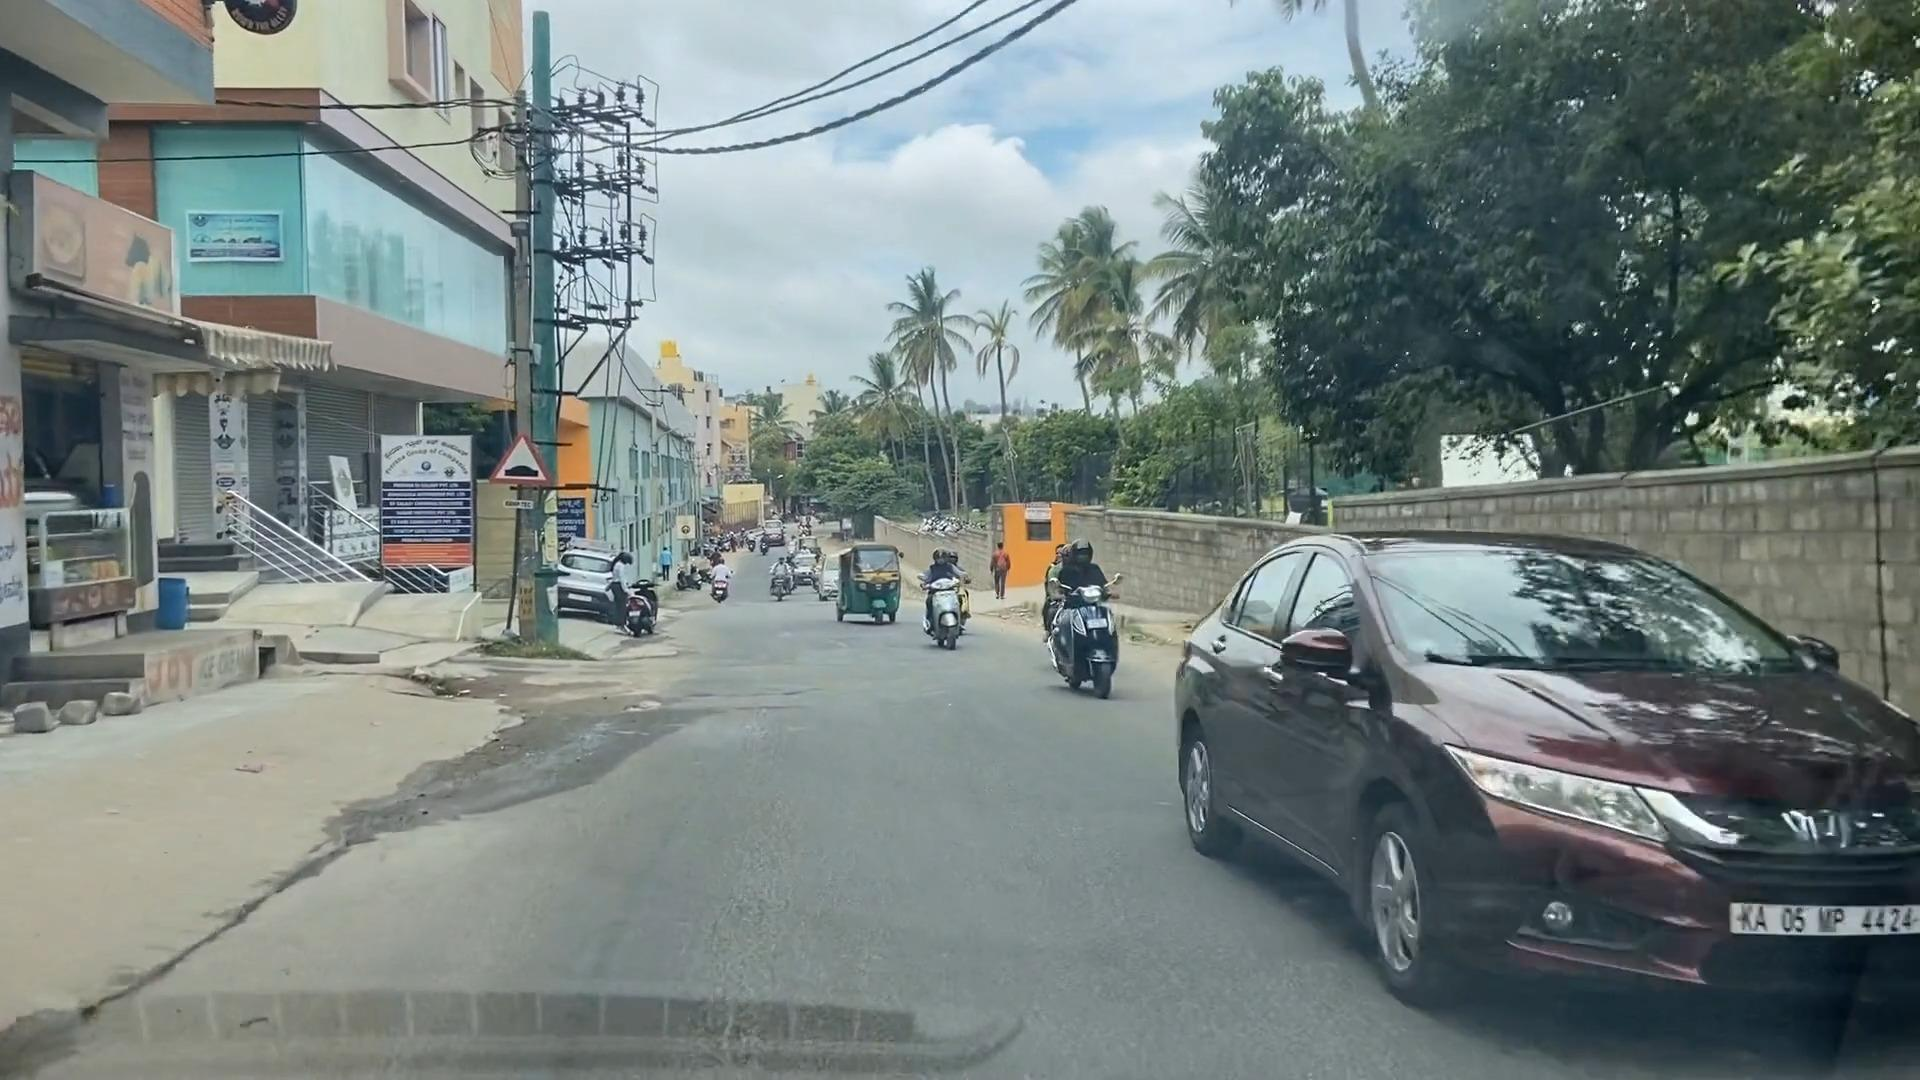LMV: (1025, 525, 1167, 756)
RoadDamages: (583, 674, 760, 798)
